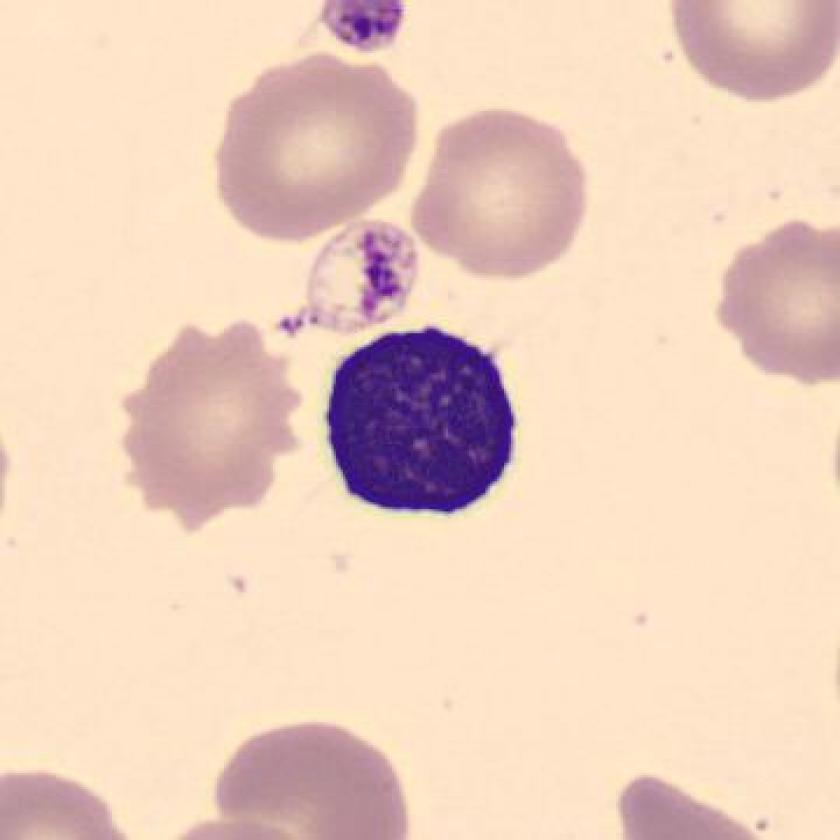lymphocyte: (304, 309, 538, 540)
